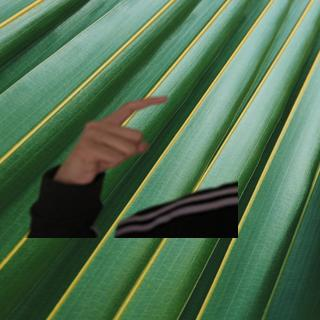WHY: (54, 91, 175, 185)
